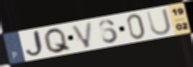0: (125, 13, 147, 41)
6: (99, 19, 120, 44)
J: (24, 29, 46, 59)
Q: (43, 26, 74, 54)
U: (145, 7, 173, 37)
V: (69, 20, 94, 49)
